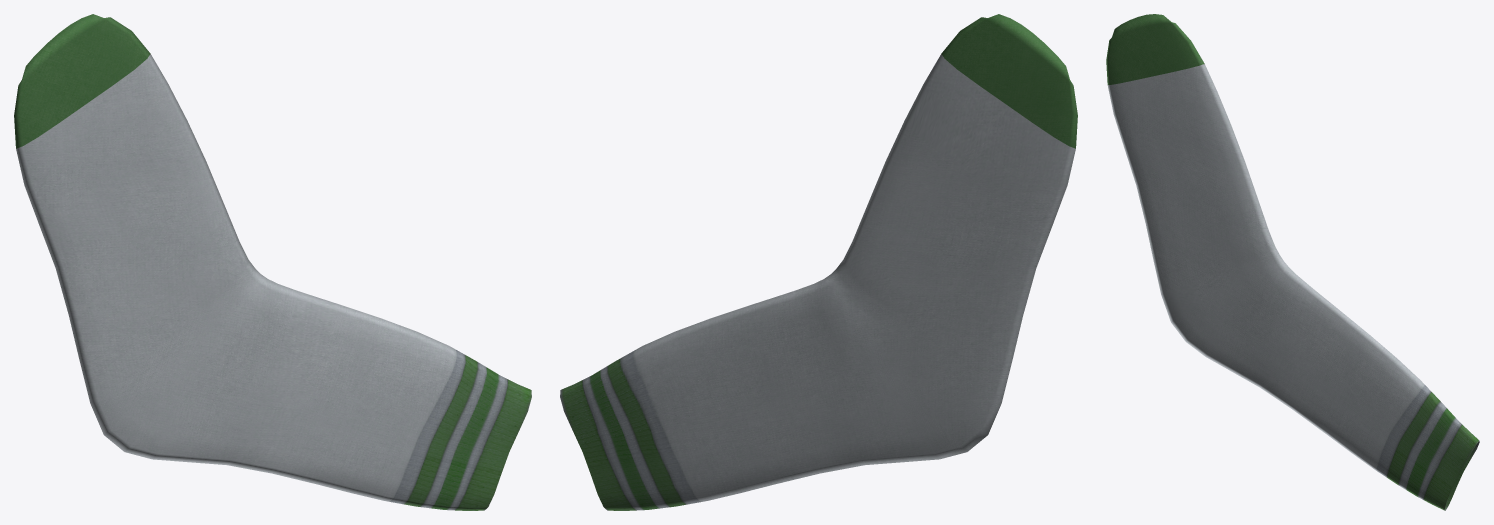
File: sock4.dae
3 views of the same model, side by side, from view 1: azimuth 30°, elevation 25°; view 2: azimuth 150°, elevation 25°; view 3: azimuth 330°, elevation 25° (orthographic). The views are drawn at different scales.
Parts seen in each view (by area): view 1: Plane020; view 2: Plane020; view 3: Plane020.
Boxes of the visible parts, box(x1,y1,x2,y2) form: Plane020: box(14, 14, 531, 510); Plane020: box(560, 14, 1077, 510); Plane020: box(1106, 14, 1479, 510).
Size of the model in its own units: 5.19 by 0.2044 by 5.67.
